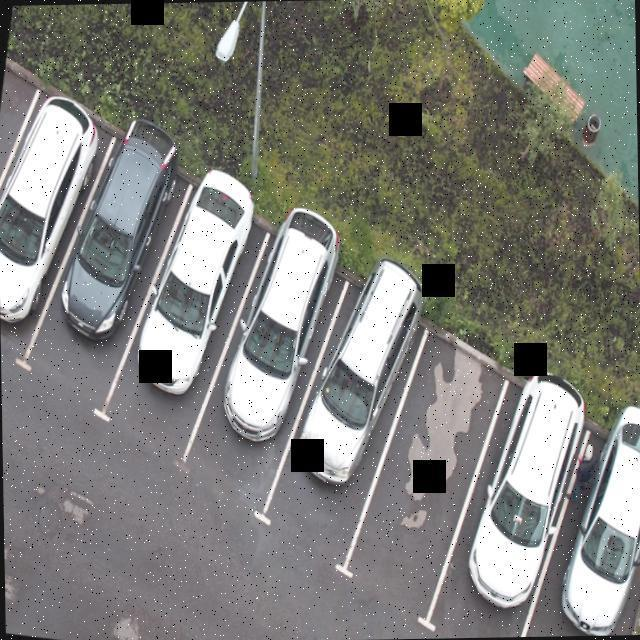car: (426, 361, 593, 638), (105, 178, 267, 456), (181, 233, 343, 508), (264, 274, 420, 548), (23, 132, 175, 406), (0, 92, 111, 355), (527, 398, 640, 636)
free: (340, 334, 508, 604)
